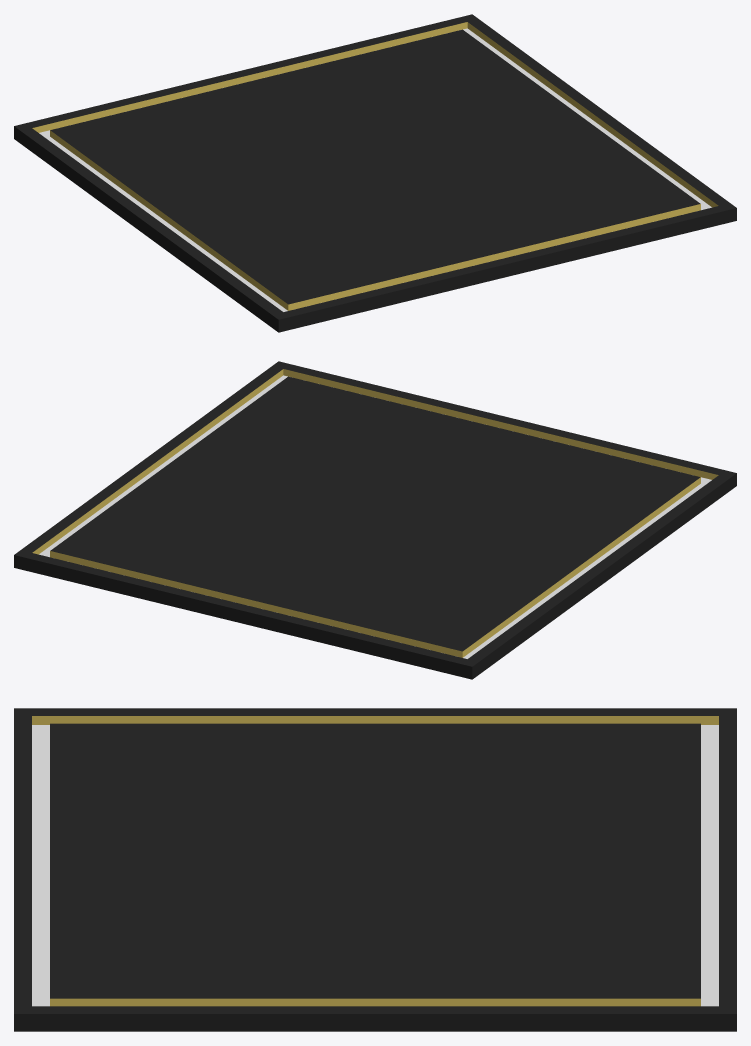
Rendered from FloorPaneledWithBottom.fbx.
3 renders of one model, top to bottom at view 1: azimuth 30°, elevation 25°; view 2: azimuth 150°, elevation 25°; view 3: azimuth 270°, elevation 25°, orthographic. The views are drawn at different scales.
Parts seen in each view (by area): view 1: Cube.001, Cube.002; view 2: Cube.001, Cube.002; view 3: Cube.001, Cube.002.
Boxes of the visible parts, <box> form: Cube.001: <box>14,14,736,326</box>; Cube.002: <box>14,28,736,332</box>; Cube.001: <box>14,361,736,673</box>; Cube.002: <box>14,469,736,679</box>; Cube.001: <box>14,708,736,1022</box>; Cube.002: <box>14,725,736,1031</box>.
Size of the model in its own units: 400 by 10.74 by 400.
